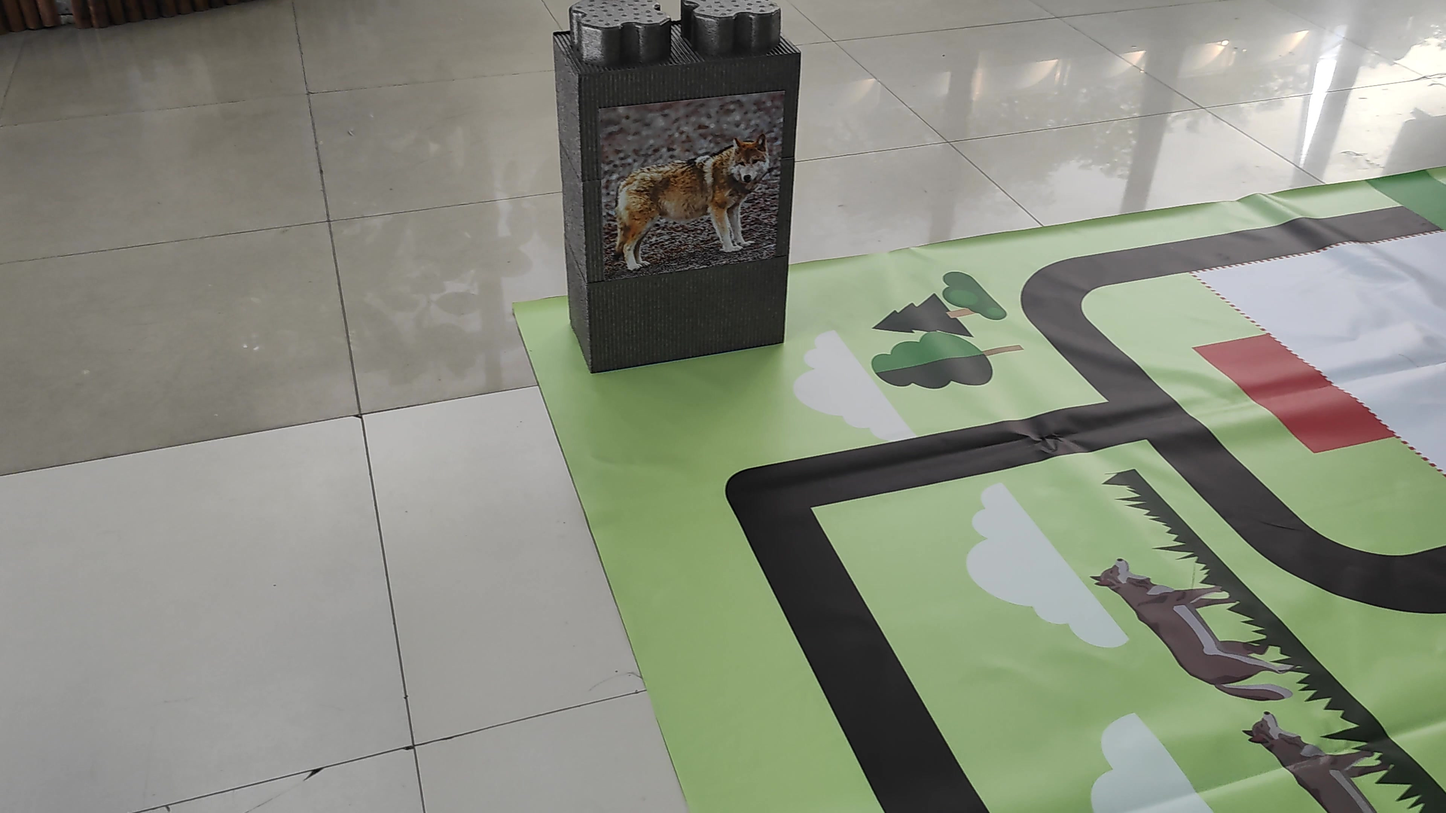wolf: (589, 122, 774, 287)
